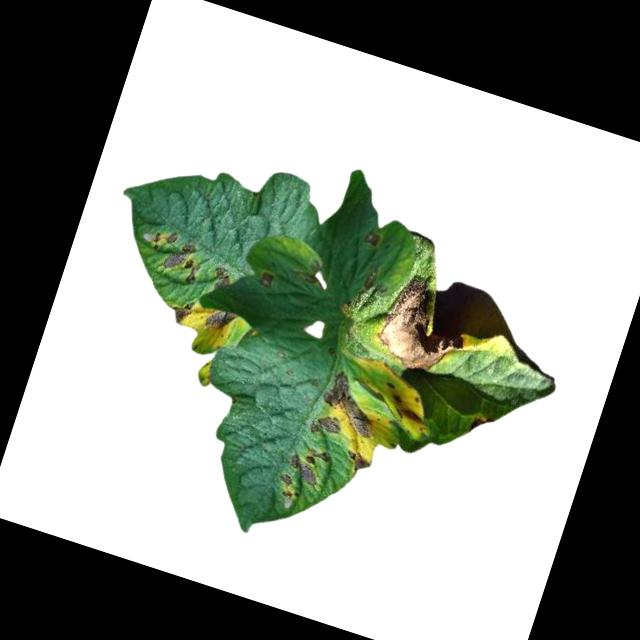Early_blight: (370, 271, 478, 385), (313, 366, 386, 441), (269, 439, 333, 516), (135, 223, 209, 287), (377, 379, 432, 428), (202, 305, 240, 338), (340, 447, 374, 476), (307, 411, 341, 440), (168, 296, 196, 327), (209, 266, 234, 292), (255, 268, 277, 294), (468, 415, 489, 441), (360, 229, 381, 250)
